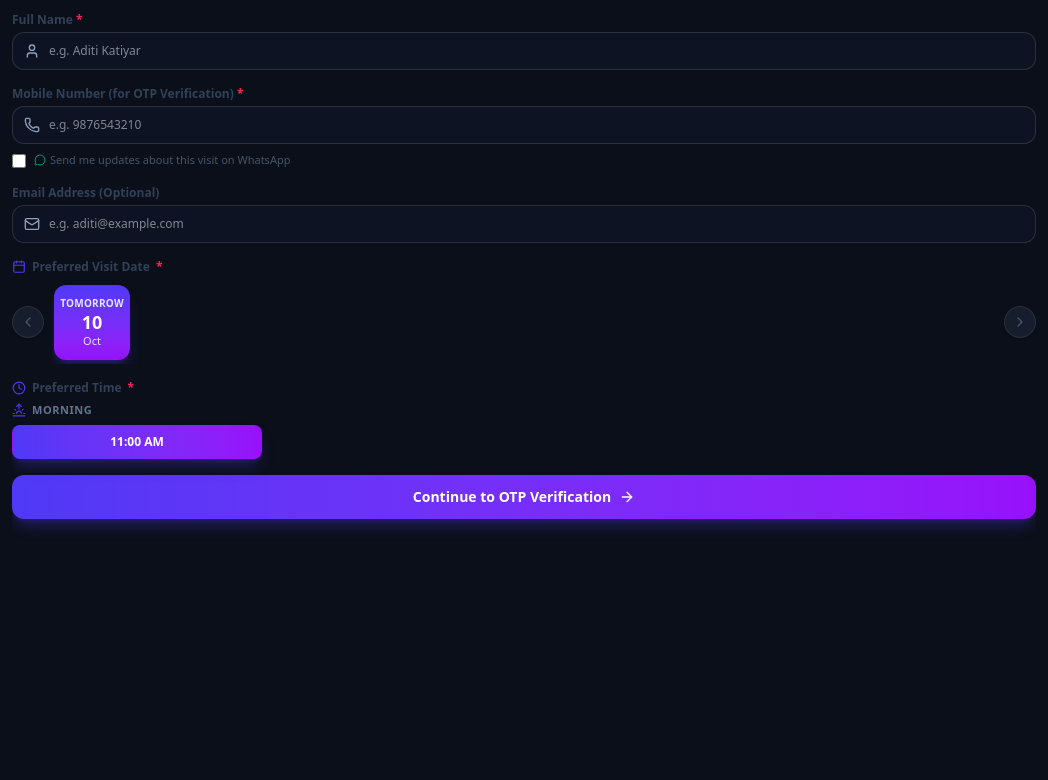
Scenario: Lead Creation Form & OTP Verification › validates required fields on TourRequestForm
The image size is (1048, 780).
Click the button "Continue to OTP Verification" at (524, 496), box 12,474 -> 1036,518
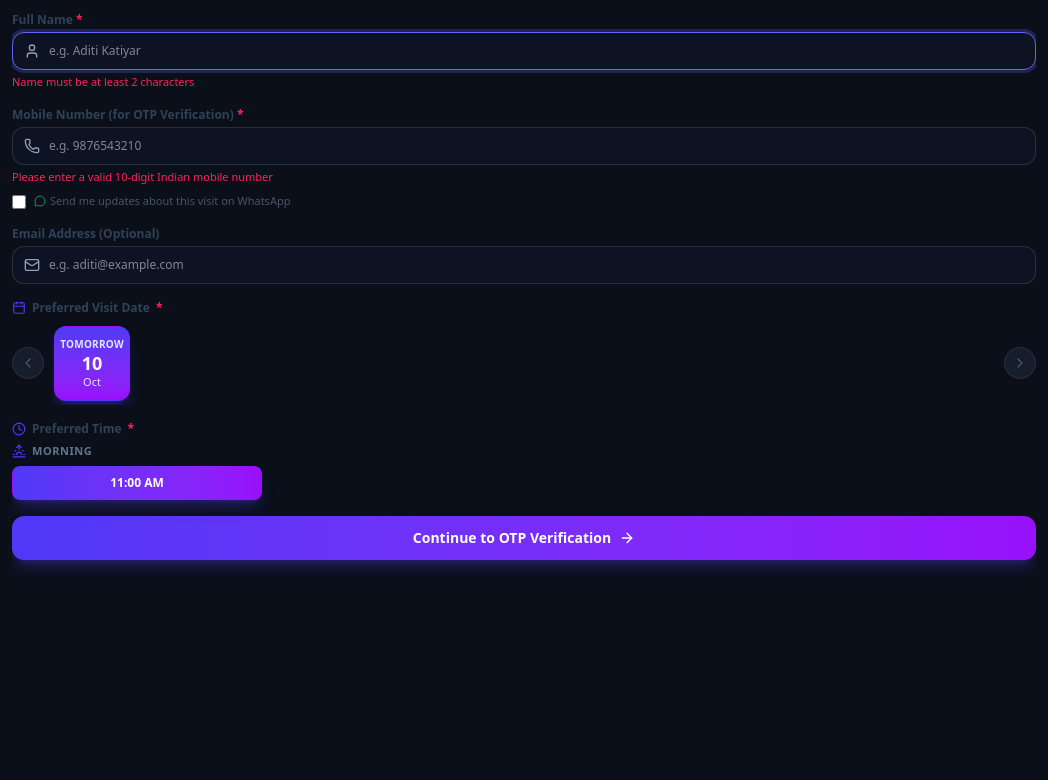
Expected: the text "Name must be at least 2 characters" is shown, 12,74 -> 194,89
Expected: the text "Please enter a valid 10-digit Indian mobile number" is shown, 12,168 -> 273,184
